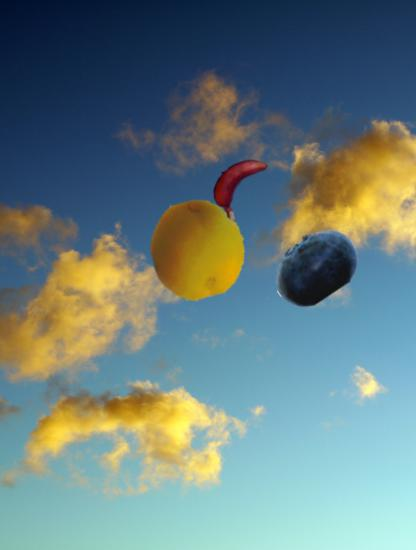Banana: (205, 150, 273, 218)
Blueberry: (270, 222, 361, 313)
Peach: (147, 198, 249, 300)
